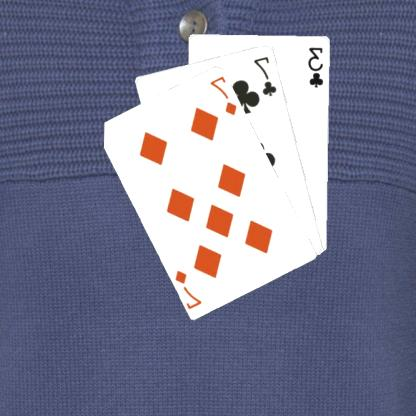3C: (308, 43, 328, 88)
7C: (253, 53, 280, 98)
7D: (174, 267, 206, 310), (209, 74, 240, 117)
